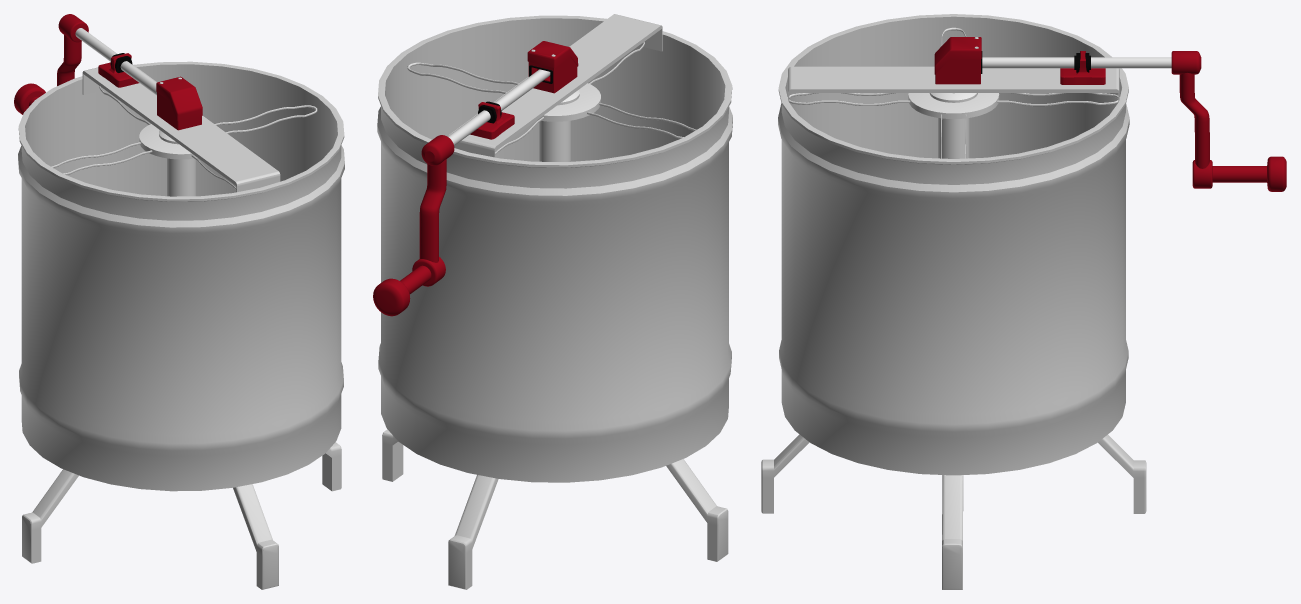
The model's file is honeyout (1).fbx.
3 renders of one model, left to right at view 1: azimuth 30°, elevation 25°; view 2: azimuth 150°, elevation 25°; view 3: azimuth 270°, elevation 25°, orthographic. The views are drawn at different scales.
Parts seen in each view (by area): view 1: Cube, Cube.001, Cylinder; view 2: Cube, Cylinder, Cube.001; view 3: Cube, Cylinder, Cube.001.
Part boxes in pixels (box(x1,y1,x2,y2)): Cube: box(18, 53, 344, 589); Cube.001: box(51, 86, 317, 196); Cylinder: box(14, 14, 156, 114); Cube: box(377, 14, 732, 589); Cylinder: box(373, 69, 550, 316); Cube.001: box(407, 42, 696, 161); Cube: box(761, 14, 1146, 589); Cylinder: box(982, 51, 1286, 191); Cube.001: box(787, 27, 1119, 158).
Size of the model in its own units: 195 by 261 by 266.
